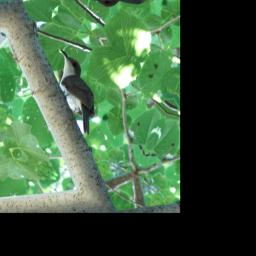Cuckoo: (31, 48, 117, 137)
